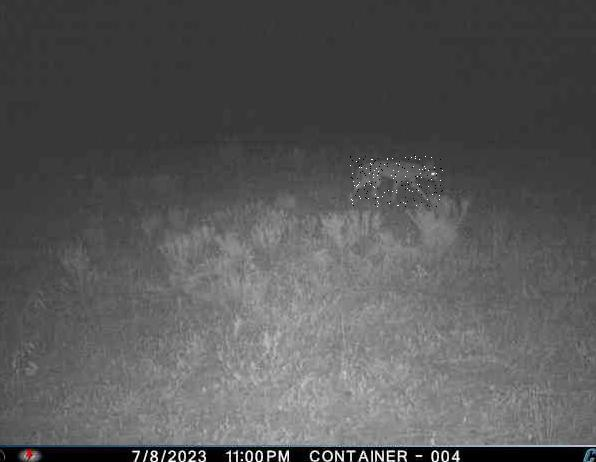Coyote: (351, 155, 445, 207)
